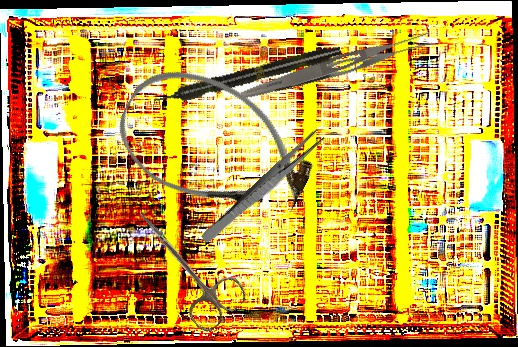Cannula: (101, 47, 330, 246)
Dressing Forceps: (238, 26, 434, 110), (199, 127, 327, 248)
Handpiece: (152, 42, 343, 109)
Iris Scissors: (115, 194, 252, 337)
